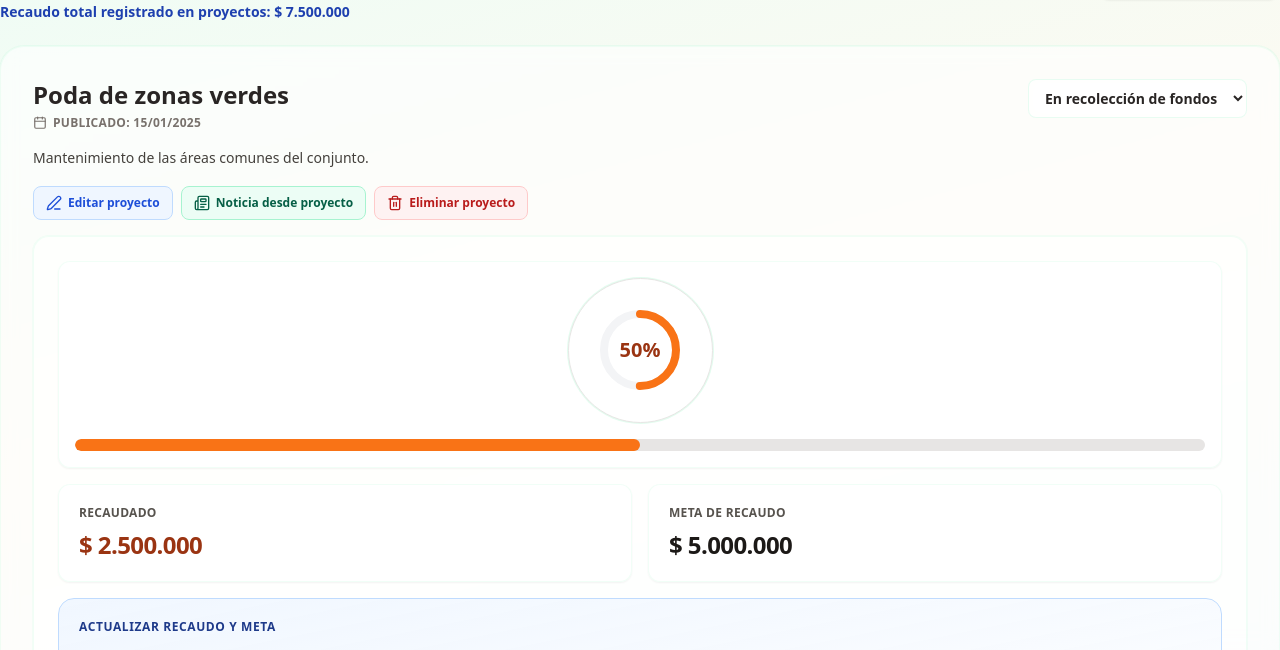
FundsView — acciones del admin › muestra formulario en modo edición al hacer click en "Editar proyecto"
The image size is (1280, 650).
Click the button "Editar proyecto": click(103, 203) [33,186,173,220]
(page scrolled)
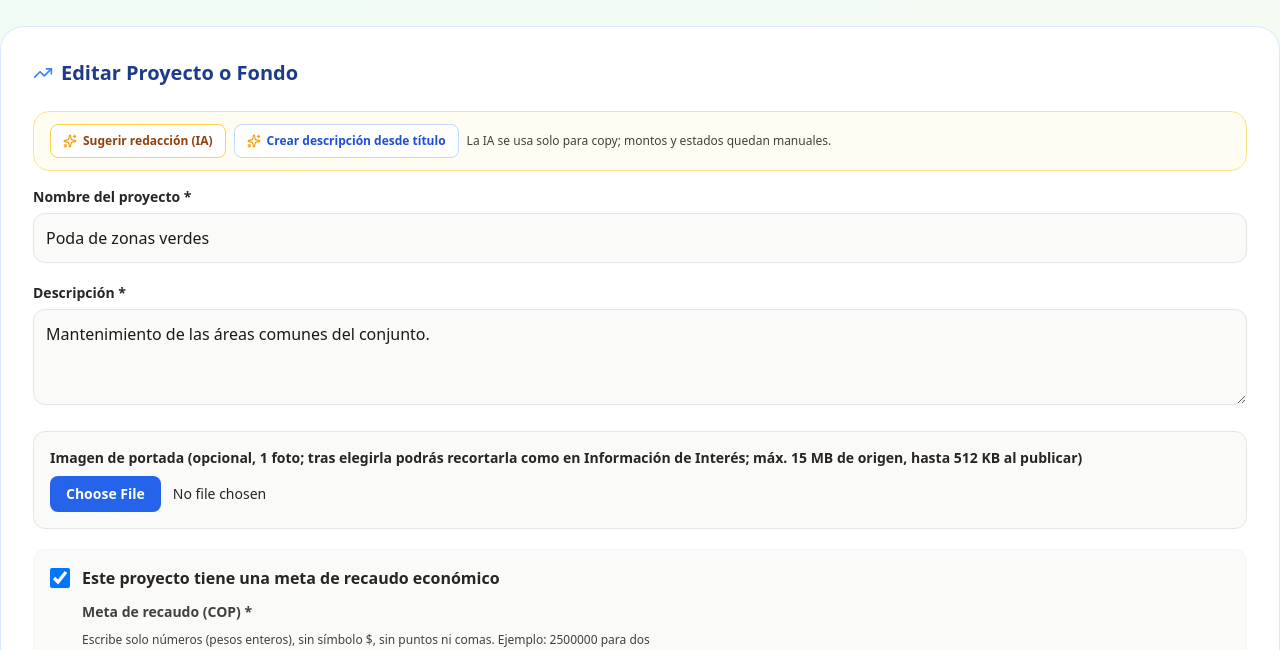
expect the heading "Editar Proyecto o Fondo" is shown: met, box [33,59,298,86]
expect the field showing "Poda de zonas verdes" is shown: met, box [33,213,1247,263]
